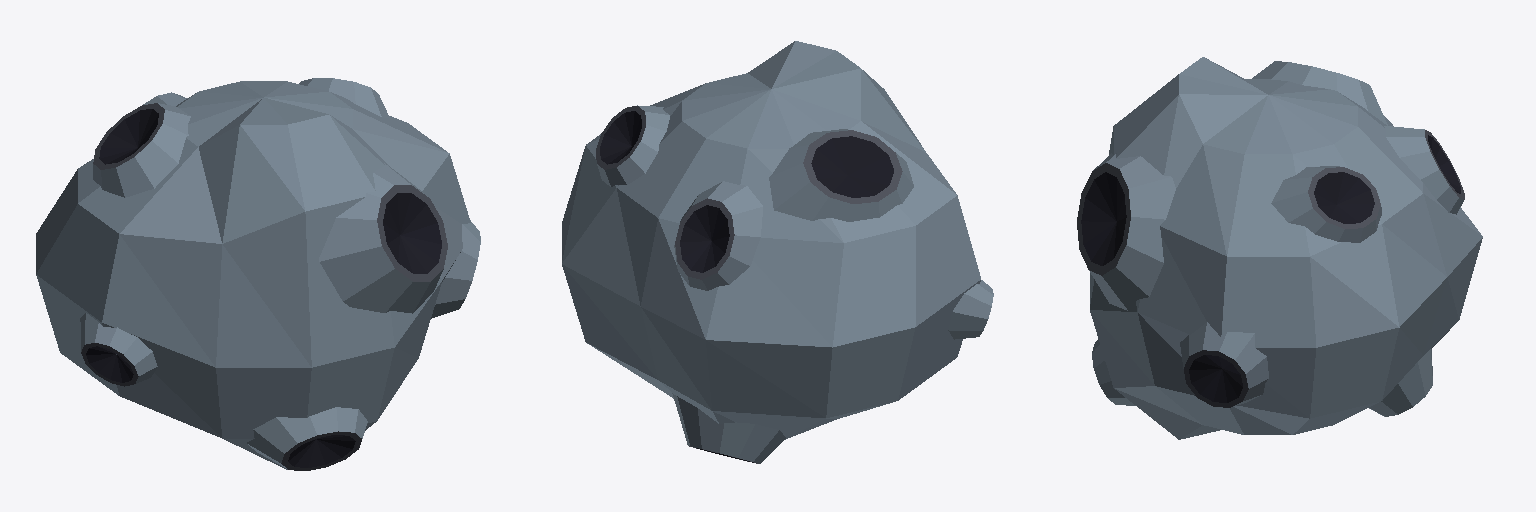
3 views of the same model, side by side, from view 1: azimuth 30°, elevation 25°; view 2: azimuth 150°, elevation 25°; view 3: azimuth 270°, elevation 25° (orthographic).
Visible parts, largest first — view 1: sphere, tube; view 2: sphere, tube; view 3: sphere, tube.
Boxes of the visible parts, x1=… form: sphere: x1=36, y1=81, x2=470, y2=469; tube: x1=80, y1=78, x2=480, y2=470; sphere: x1=562, y1=41, x2=980, y2=439; tube: x1=596, y1=105, x2=993, y2=463; sphere: x1=1090, y1=57, x2=1482, y2=439; tube: x1=1077, y1=61, x2=1464, y2=416.
Bounding box in the file's own units: 0.0798 × 0.0666 × 0.071.
1 materials, 1 textured.